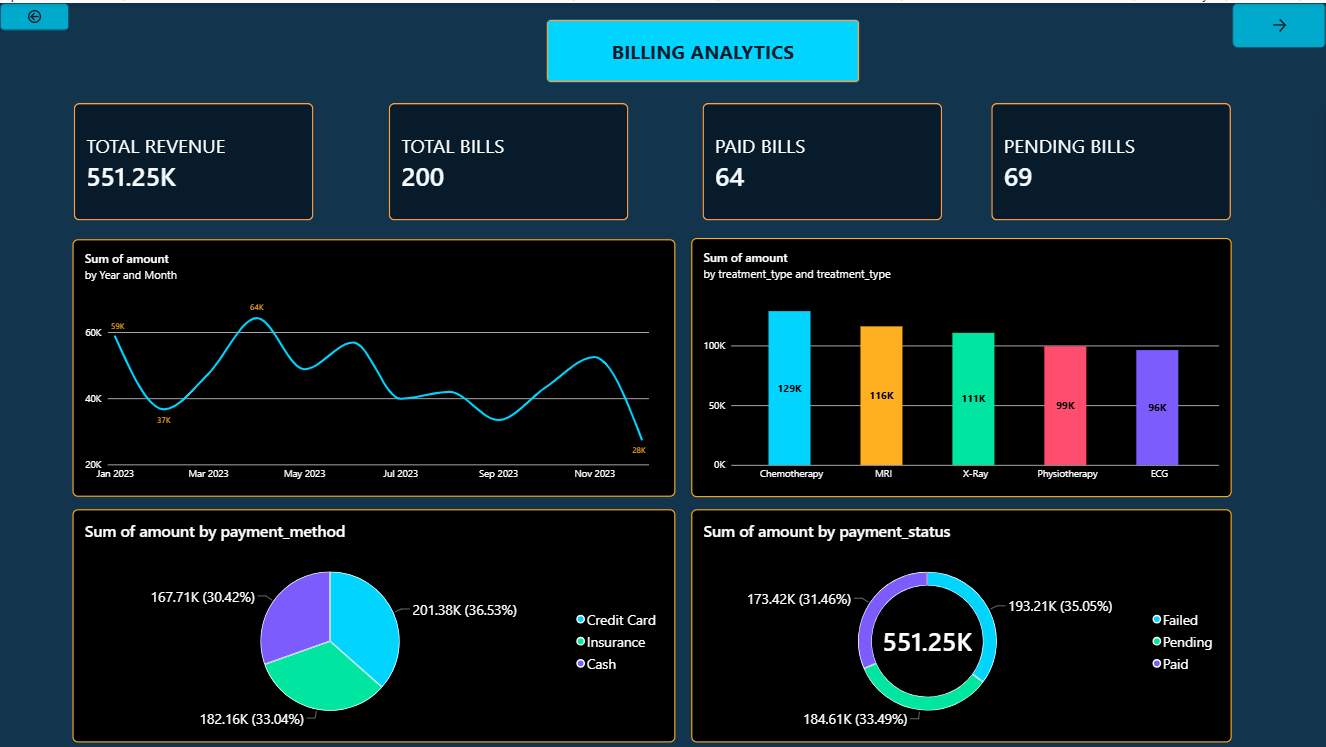

This screenshot's page, from the dashboard's own definition file:
{"tool":"powerbi","page":{"name":"billing","canvas":[1920,1080],"ordinal":5},"visuals":[{"type":"shape","box":[790,24,454,92],"z":0},{"type":"cardVisual","fields":{"Data":["Sum(healthcare_db billing.amount)"]},"box":[106,144,347.5,170],"z":1000},{"type":"cardVisual","fields":{"Data":["CountNonNull(healthcare_db billing.bill_id)"]},"box":[1017.5,145,347.5,170],"z":2000},{"type":"cardVisual","fields":{"Data":["Count(healthcare_db billing.bill_id)"]},"box":[1435,145,347.5,170],"z":3000},{"type":"cardVisual","fields":{"Data":["Count(healthcare_db billing.bill_id)"]},"box":[562,144,347.5,170],"z":4000},{"type":"lineChart","fields":{"Category":["healthcare_db billing.bill_date.Variation.Date Hierarchy.Year","healthcare_db billing.bill_date.Variation.Date Hierarchy.Month"],"Y":["Sum(healthcare_db billing.amount)"]},"box":[105,342.5,872.5,372.5],"z":5000},{"type":"columnChart","fields":{"Category":["healthcare_db treatments.treatment_type"],"Series":["healthcare_db treatments.treatment_type"],"Y":["Sum(healthcare_db billing.amount)"]},"box":[1000,340,782.5,375],"z":6000},{"type":"donutChart","fields":{"Category":["healthcare_db billing.payment_status"],"Y":["Sum(healthcare_db billing.amount)"]},"box":[1000,732.5,782.5,337.5],"z":7000},{"type":"pieChart","fields":{"Category":["healthcare_db billing.payment_method"],"Y":["Sum(healthcare_db billing.amount)"]},"box":[105,732.5,872.5,337.5],"z":8000},{"type":"actionButton","box":[1785,0,135,65],"z":9000},{"type":"actionButton","box":[0,0,100,40],"z":10000}]}

Visuals, with their boxes in screenshot pixels (x1, y1, x2, y2), scaled from the page's 1920x1080 canvas onto the 1326x747 screenshot:
shape: <region>546, 17, 859, 80</region>
cardVisual - Sum(healthcare_db billing.amount): <region>73, 100, 313, 217</region>
cardVisual - CountNonNull(healthcare_db billing.bill_id): <region>703, 100, 943, 218</region>
cardVisual - Count(healthcare_db billing.bill_id): <region>991, 100, 1231, 218</region>
cardVisual - Count(healthcare_db billing.bill_id): <region>388, 100, 628, 217</region>
lineChart - healthcare_db billing.bill_date.Variation.Date Hierarchy.Year x healthcare_db billing.bill_date.Variation.Date Hierarchy.Month: <region>73, 237, 675, 495</region>
columnChart - healthcare_db treatments.treatment_type x healthcare_db treatments.treatment_type: <region>691, 235, 1231, 495</region>
donutChart - healthcare_db billing.payment_status x Sum(healthcare_db billing.amount): <region>691, 507, 1231, 740</region>
pieChart - healthcare_db billing.payment_method x Sum(healthcare_db billing.amount): <region>73, 507, 675, 740</region>
actionButton: <region>1233, 0, 1325, 45</region>
actionButton: <region>0, 0, 69, 28</region>
